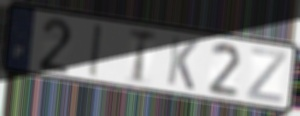2: (38, 14, 74, 77), (208, 41, 243, 97)
I: (87, 22, 103, 80)
K: (165, 34, 201, 93)
T: (127, 26, 159, 86)
Z: (245, 46, 288, 106)
